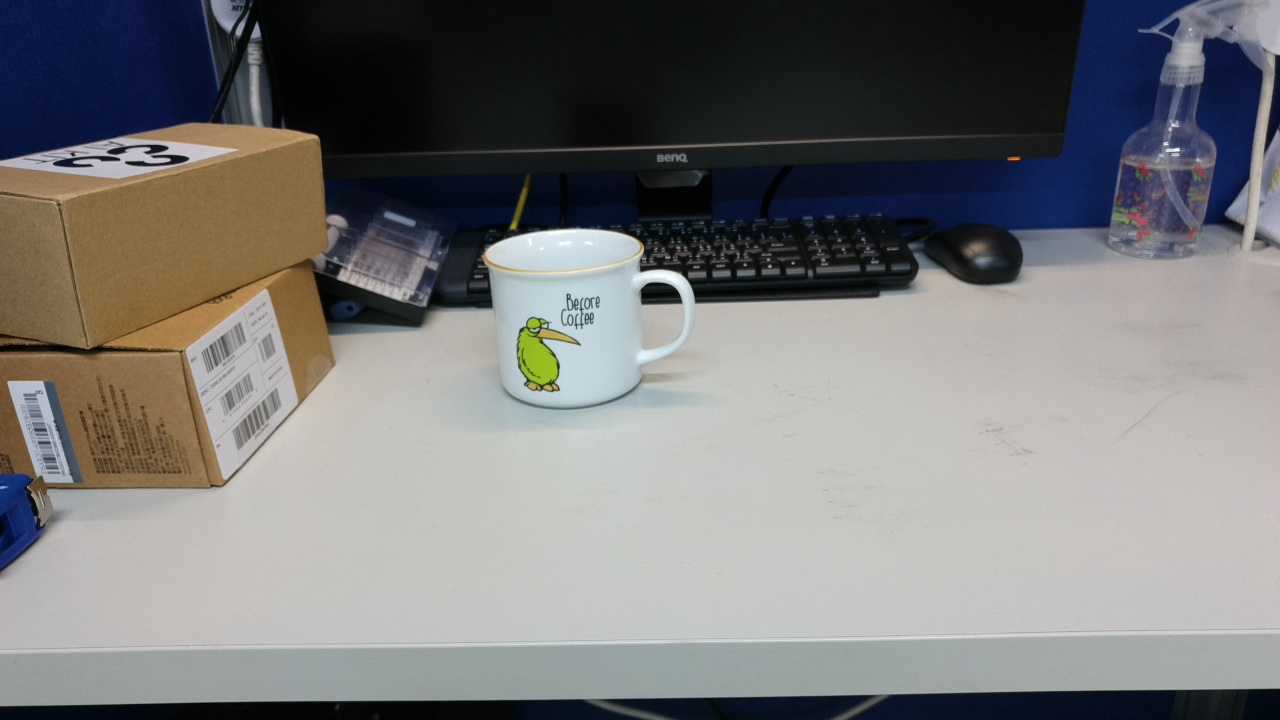columnar: (377, 213, 617, 597)
